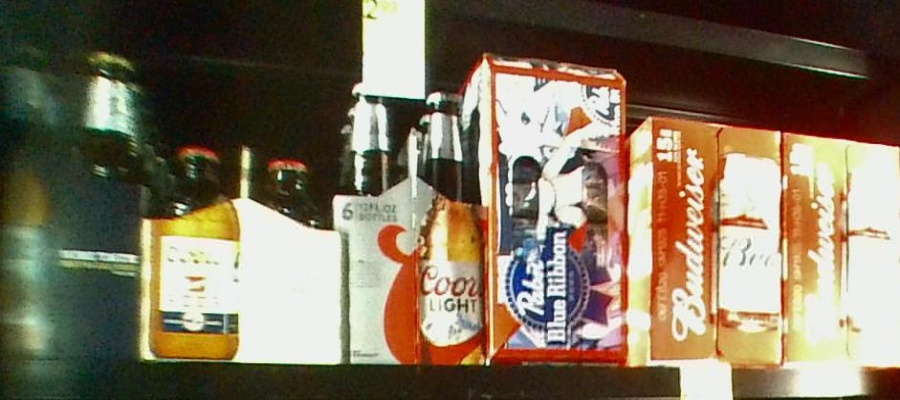bottle: (473, 50, 627, 365), (1, 49, 146, 358), (148, 142, 340, 360), (339, 81, 487, 363), (627, 113, 782, 366), (780, 131, 900, 362)
